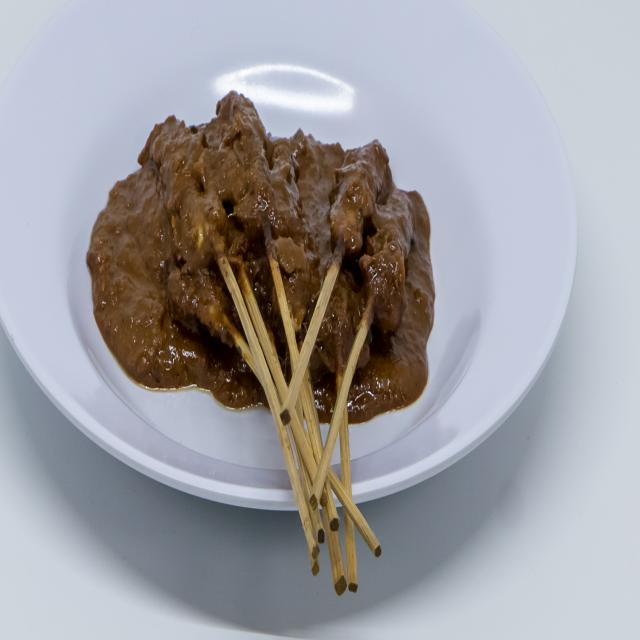Sate-Ayam: (108, 57, 440, 427)
